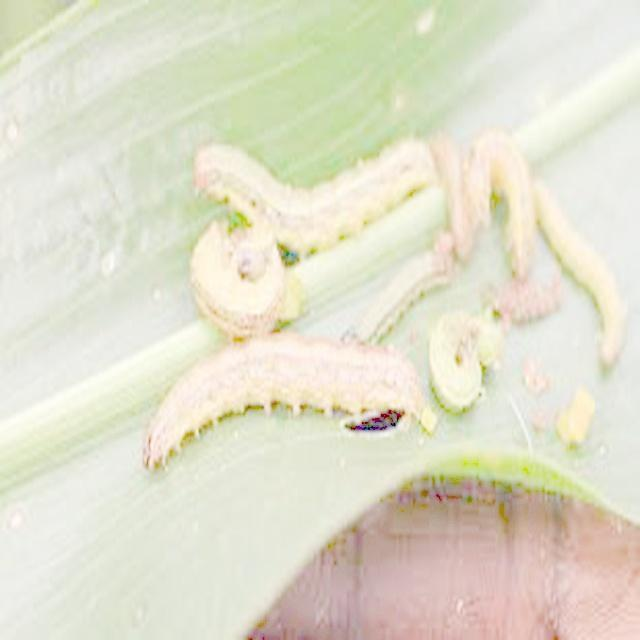worm: (142, 127, 627, 472), (142, 330, 438, 472)
